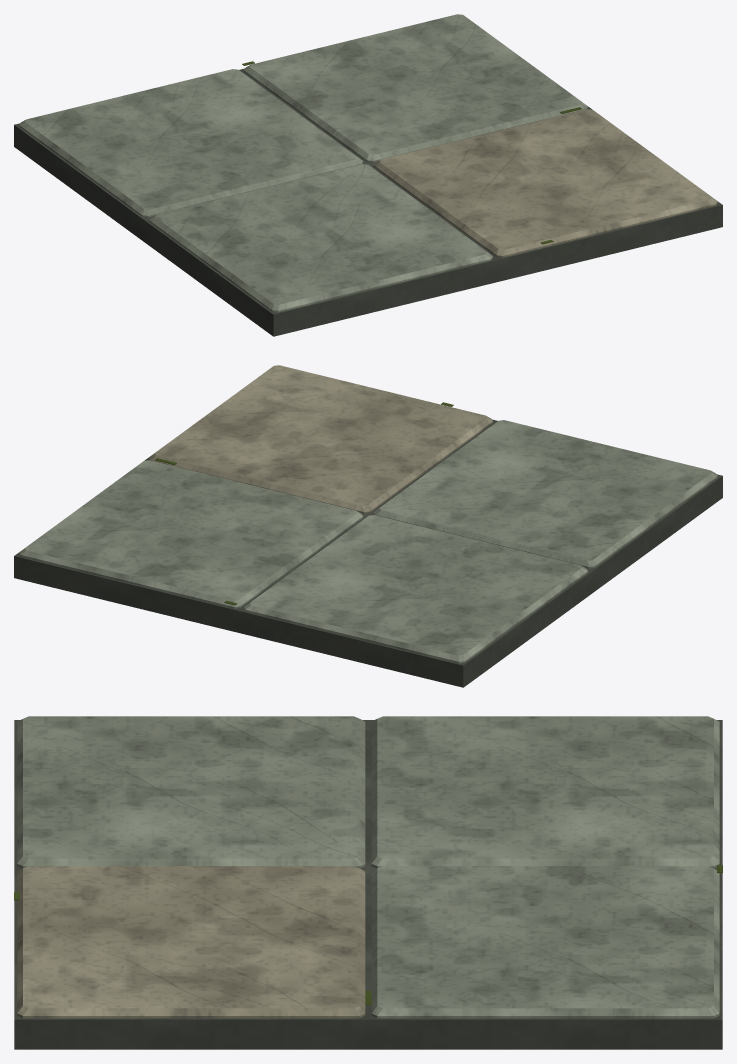
File: b01_floor_b.fbx
The picture shows the model from 3 angles, top to bottom: view 1: azimuth 30°, elevation 25°; view 2: azimuth 150°, elevation 25°; view 3: azimuth 270°, elevation 25°; orthographic projection. The views are drawn at different scales.
Visible parts, largest first — view 1: b01_floor_b; view 2: b01_floor_b; view 3: b01_floor_b.
Boxes of the visible parts, x1=… form: b01_floor_b: x1=14, y1=14, x2=722, y2=336; b01_floor_b: x1=14, y1=365, x2=722, y2=687; b01_floor_b: x1=14, y1=716, x2=722, y2=1049.
Bounding box in the file's own units: 25600 × 25620 × 1500.
